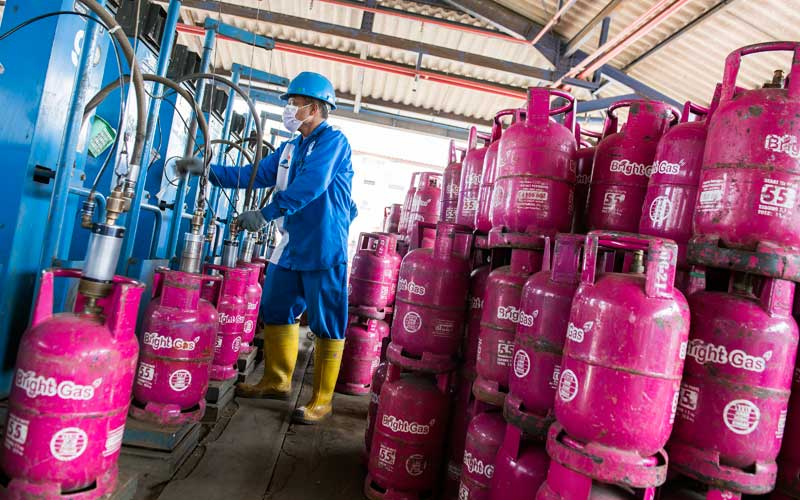bright_gas: (555, 232, 688, 480), (6, 267, 143, 500), (684, 267, 799, 500), (696, 47, 800, 276), (128, 266, 225, 427), (512, 233, 588, 426), (359, 361, 453, 500), (589, 99, 678, 234), (492, 86, 576, 229), (390, 223, 470, 367), (640, 101, 724, 233), (472, 244, 538, 404), (456, 398, 543, 500), (198, 261, 246, 383), (349, 229, 393, 318), (446, 134, 487, 223), (343, 317, 381, 395), (388, 177, 439, 232), (240, 262, 263, 341)
